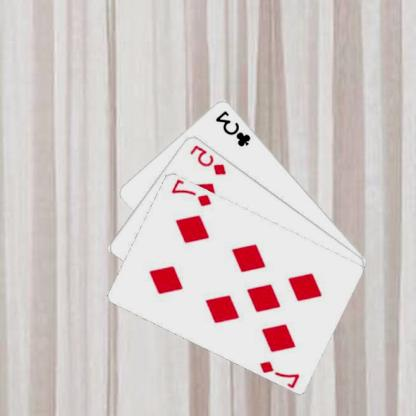3C: (214, 107, 254, 148)
5D: (188, 141, 230, 176)
7D: (170, 178, 215, 207), (258, 358, 303, 387)
